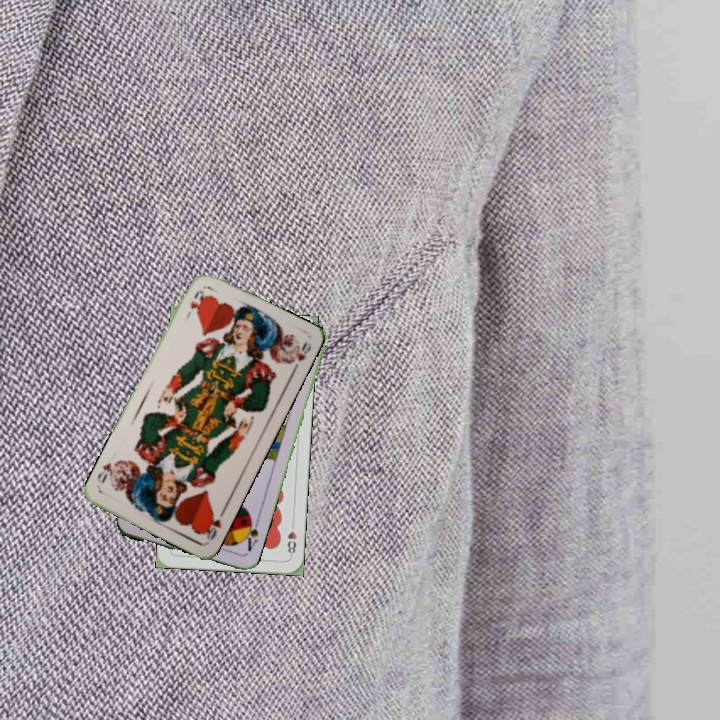H8: (283, 518, 299, 559)
HO: (199, 506, 227, 543), (181, 286, 207, 322)
SA: (239, 516, 261, 554)
